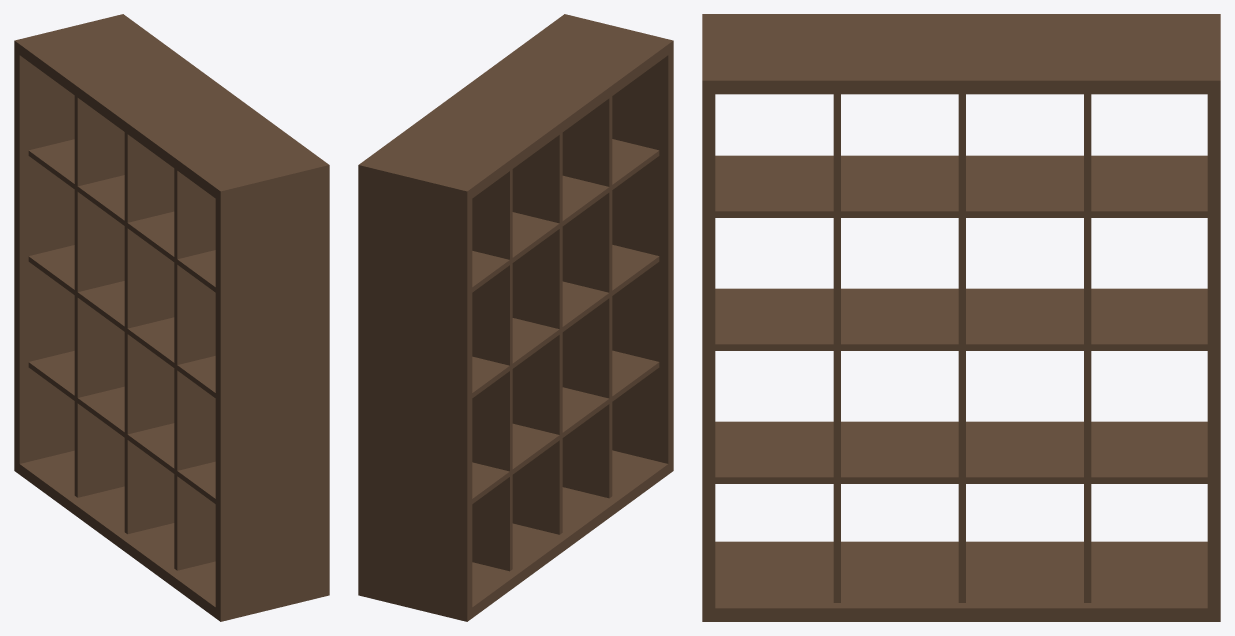
The model's file is Estante Quad 1.fbx.
The picture shows the model from 3 angles, left to right: view 1: azimuth 30°, elevation 25°; view 2: azimuth 150°, elevation 25°; view 3: azimuth 270°, elevation 25°; orthographic projection. The views are drawn at different scales.
Parts seen in each view (by area): view 1: Cubo.012; view 2: Cubo.012; view 3: Cubo.012.
Part boxes in pixels (box(x1,y1,x2,y2)): Cubo.012: box(14, 14, 329, 621); Cubo.012: box(358, 14, 673, 621); Cubo.012: box(702, 14, 1220, 621).
Bounding box in the file's own units: 163 × 617 × 535.
